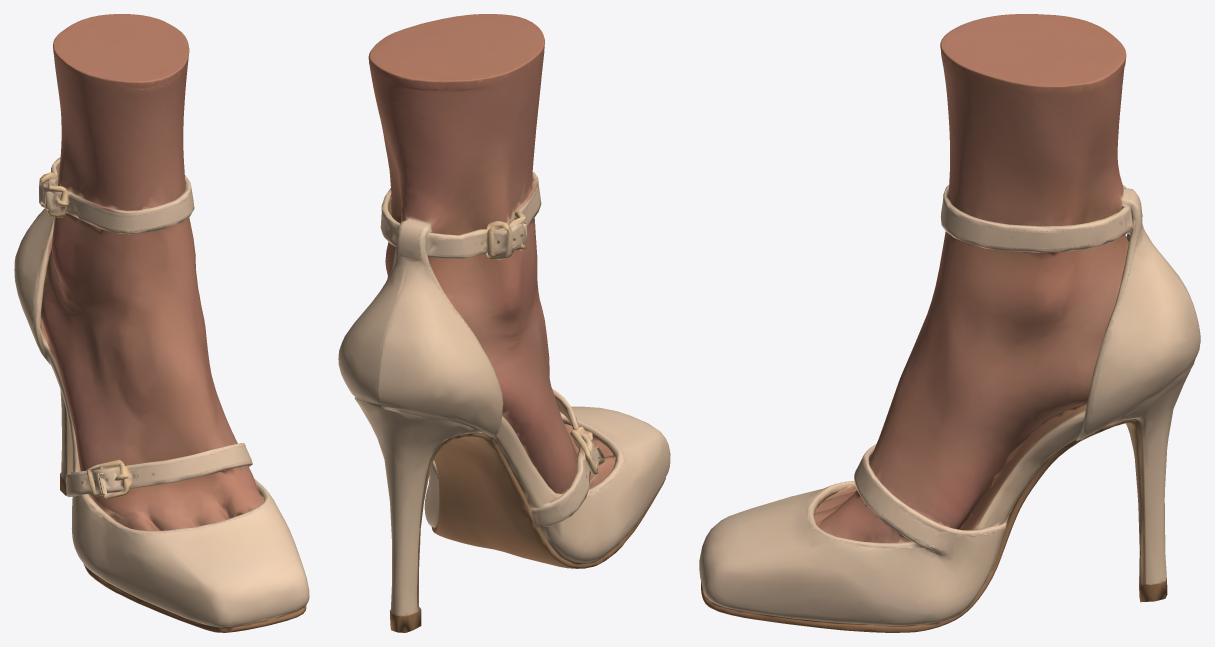
File: beige_ankle_heels_right.glb
3 views of the same model, side by side, from view 1: azimuth 30°, elevation 25°; view 2: azimuth 150°, elevation 25°; view 3: azimuth 270°, elevation 25° (orthographic). The views are drawn at different scales.
Visible parts, largest first — view 1: tripo_node_897641d6-be28-4bfb-ac12-c44a98ae64b5; view 2: tripo_node_897641d6-be28-4bfb-ac12-c44a98ae64b5; view 3: tripo_node_897641d6-be28-4bfb-ac12-c44a98ae64b5.
Part boxes in pixels (<box>): tripo_node_897641d6-be28-4bfb-ac12-c44a98ae64b5: <box>14,14,309,632</box>; tripo_node_897641d6-be28-4bfb-ac12-c44a98ae64b5: <box>338,14,670,632</box>; tripo_node_897641d6-be28-4bfb-ac12-c44a98ae64b5: <box>699,14,1200,632</box>.
Bounding box in the file's own units: 0.3464 × 0.9794 × 0.8087.
Materials: 1 (1 with a texture image).
